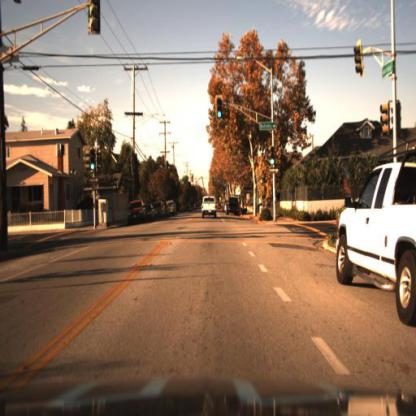car: (336, 162, 416, 330), (198, 187, 218, 225), (126, 199, 148, 230), (225, 195, 243, 222), (157, 199, 167, 221), (146, 206, 157, 224), (171, 200, 180, 221), (165, 199, 173, 222)
trafficLight-Green: (269, 143, 279, 168), (89, 155, 98, 178), (216, 107, 225, 125), (269, 156, 277, 169)
